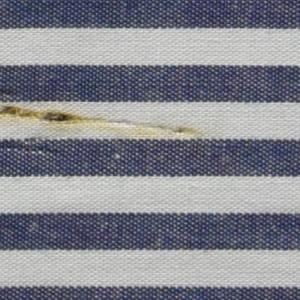Damage: (1, 87, 153, 132)
Oil Stain: (1, 100, 209, 145)
